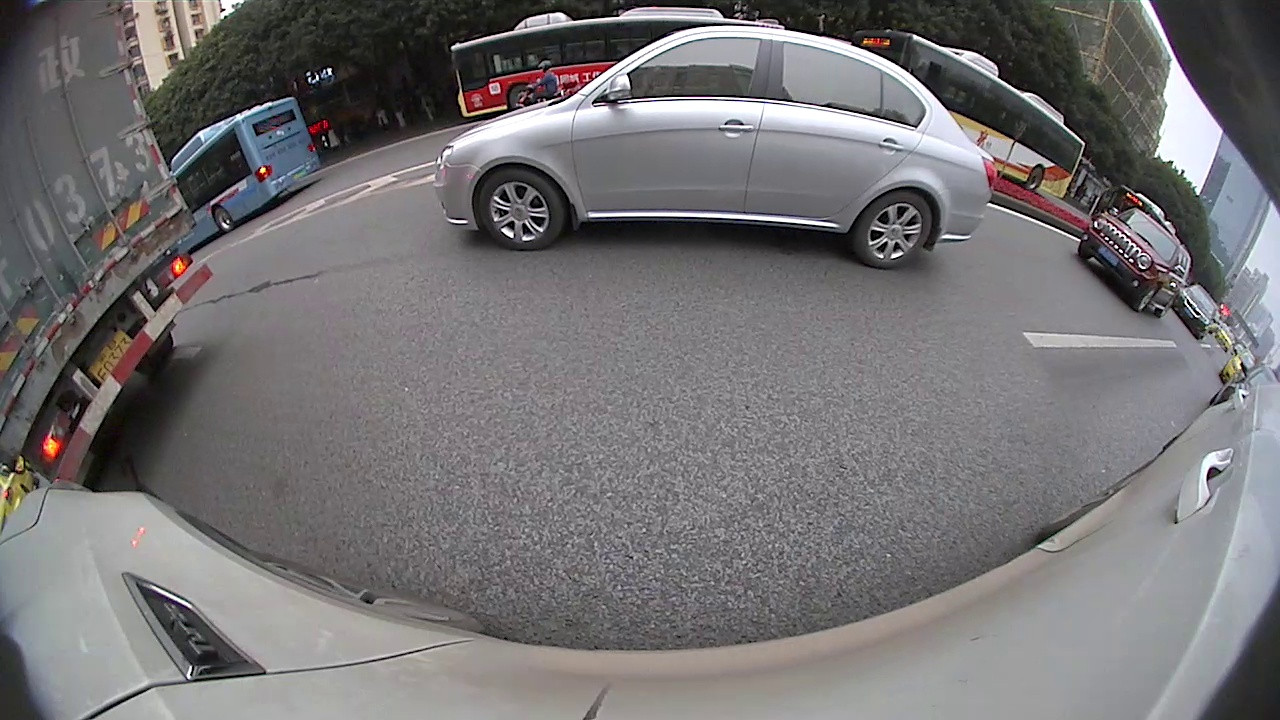bus: (852, 28, 1083, 203), (449, 6, 728, 120), (157, 94, 326, 258), (1102, 191, 1179, 234)
car: (431, 22, 1000, 271), (1076, 206, 1192, 320), (1171, 283, 1226, 341)
front: (477, 164, 568, 252), (1133, 283, 1160, 314)
rear: (850, 187, 934, 270), (213, 207, 235, 234), (1024, 166, 1044, 191)
rider: (514, 58, 581, 109)
truck: (0, 2, 212, 492)
